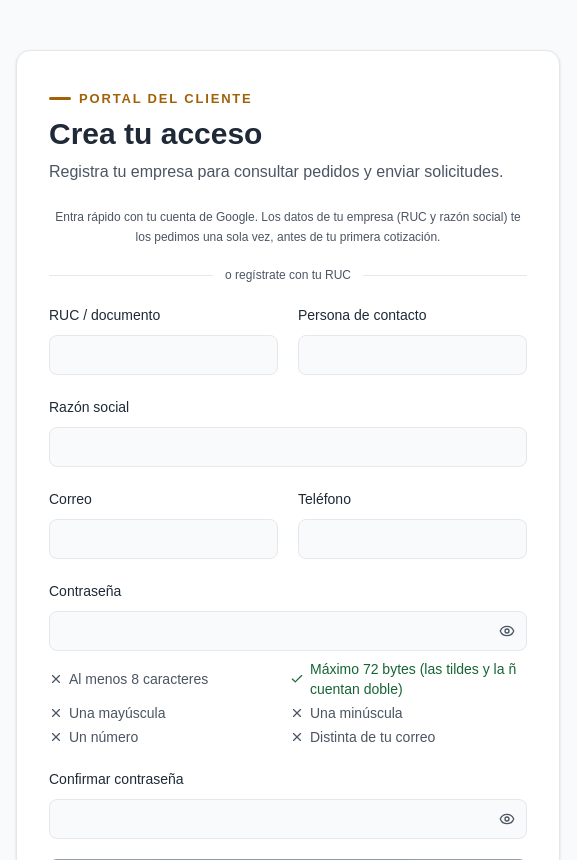
Test: RegistroClientePage: contraseña (7.2) › con un 400 por la contraseña muestra el mensaje y limpia los dos campos
Step 1. Type "2012345" into the field labelled "RUC / documento" → (164, 355), box [49,335,278,375]
Step 2. Type "Minera" into the field labelled "Razón social" → (288, 447), box [49,427,527,467]
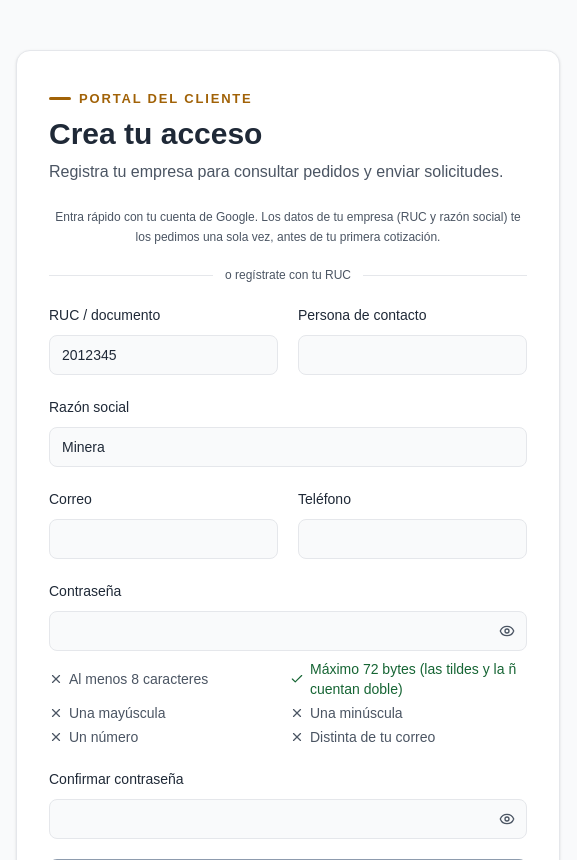
Step 3. Type "Ana" into the field labelled "Persona de contacto" → (412, 355), box [298,335,527,375]
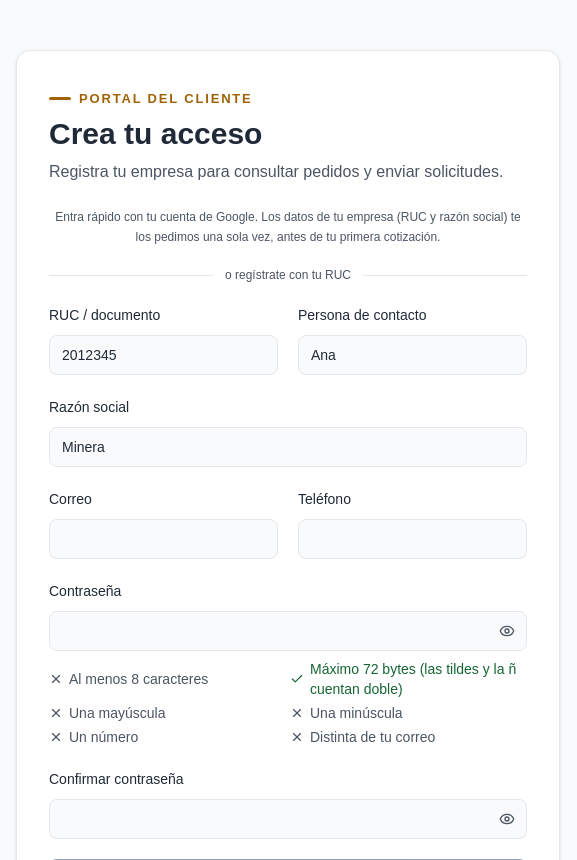
Step 4. Type "ana@portal.pe" into the field labelled "Correo" → (164, 539), box [49,519,278,559]
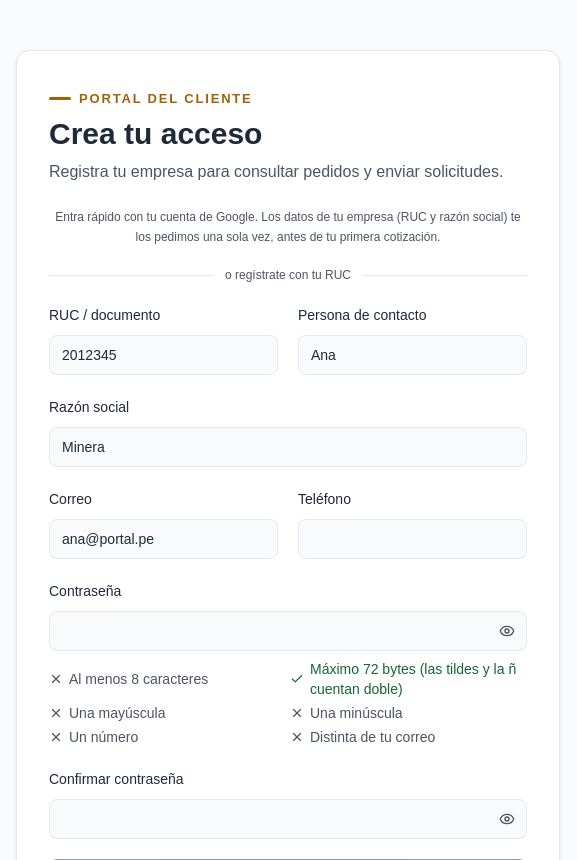
Step 5. Type "Clave1234" into the password field labelled "Contraseña" → (288, 631), box [49,611,527,651]
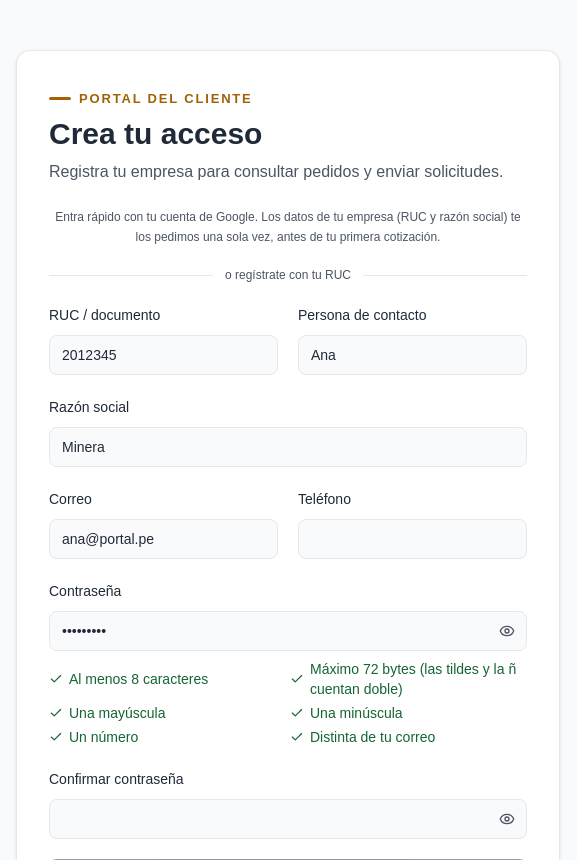
Step 6. Type "Clave1234" into the password field labelled "Confirmar contraseña" → (288, 819), box [49,799,527,839]
(page scrolled)
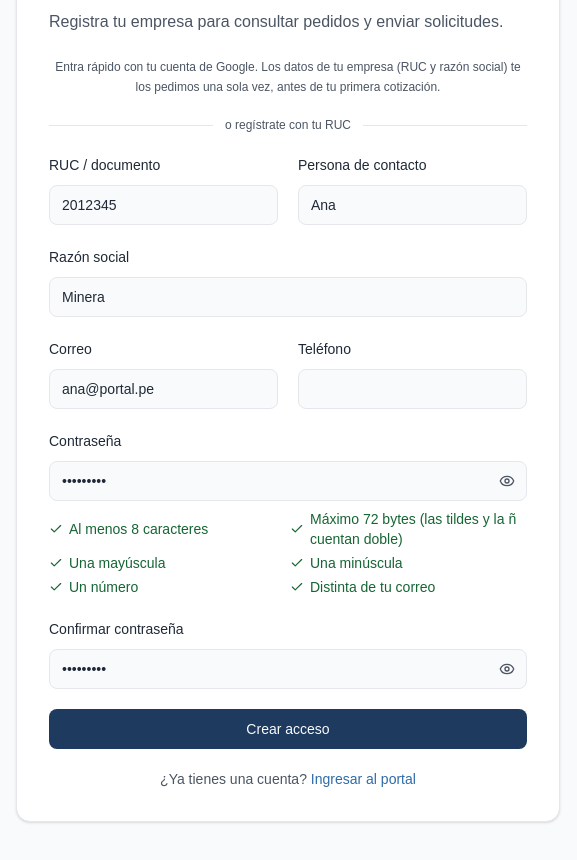
Step 7. Click the button "Crear acceso" → (288, 729), box [49,709,527,749]
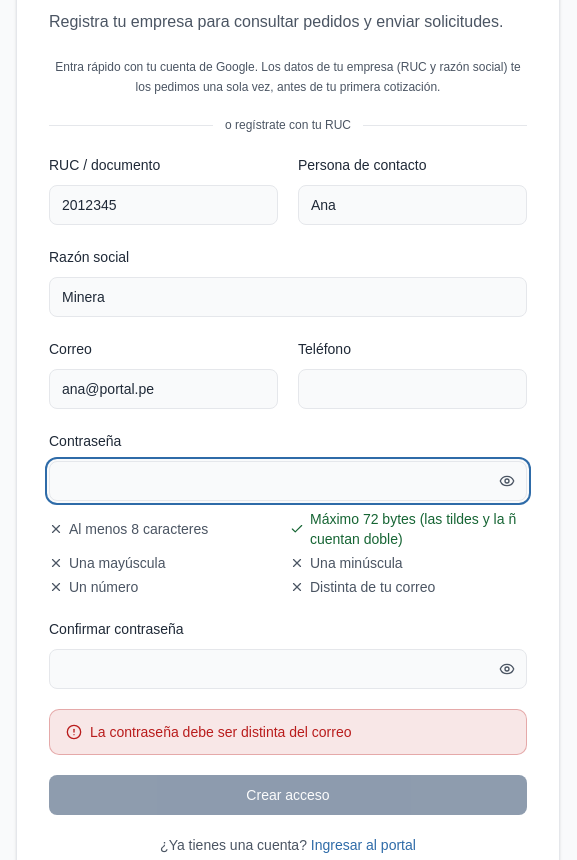
Result: the text "La contraseña debe ser distinta del correo" is shown at [90,722,352,742]
Result: the password field labelled "Contraseña" is empty at [49,461,527,501]
Result: the password field labelled "Confirmar contraseña" is empty at [49,649,527,689]
